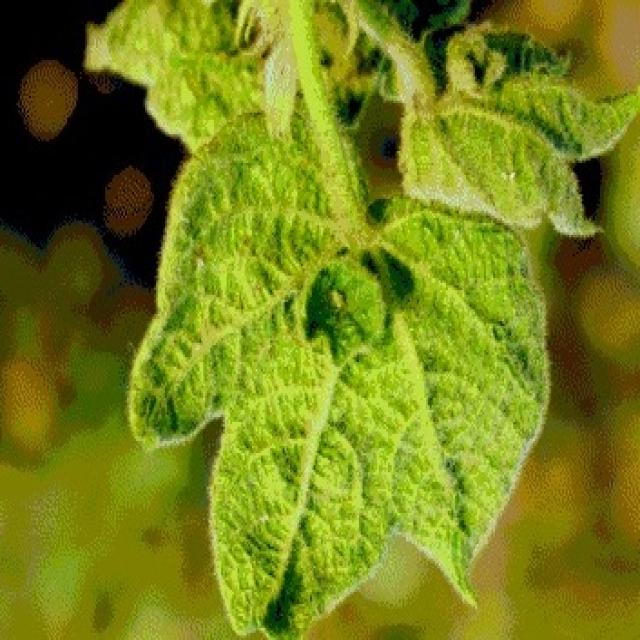Leaf Curl Virus: (132, 24, 548, 547)
